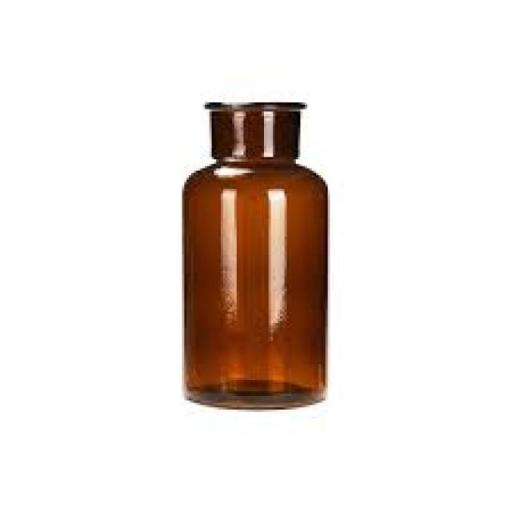glass: (172, 104, 337, 414)
